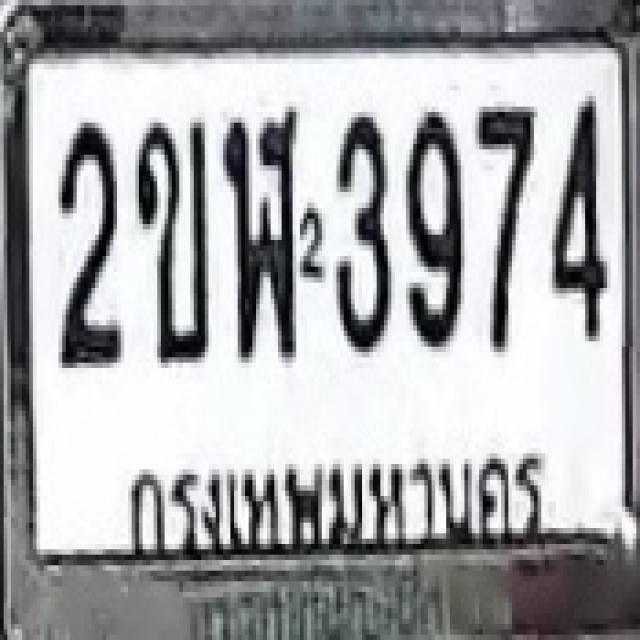2: (55, 120, 121, 365)
3: (333, 110, 393, 353)
4: (550, 99, 608, 344)
7: (475, 104, 536, 356)
9: (402, 106, 466, 352)
A02: (133, 118, 212, 370)
A42: (222, 106, 299, 366)
BKK: (111, 426, 544, 549)
